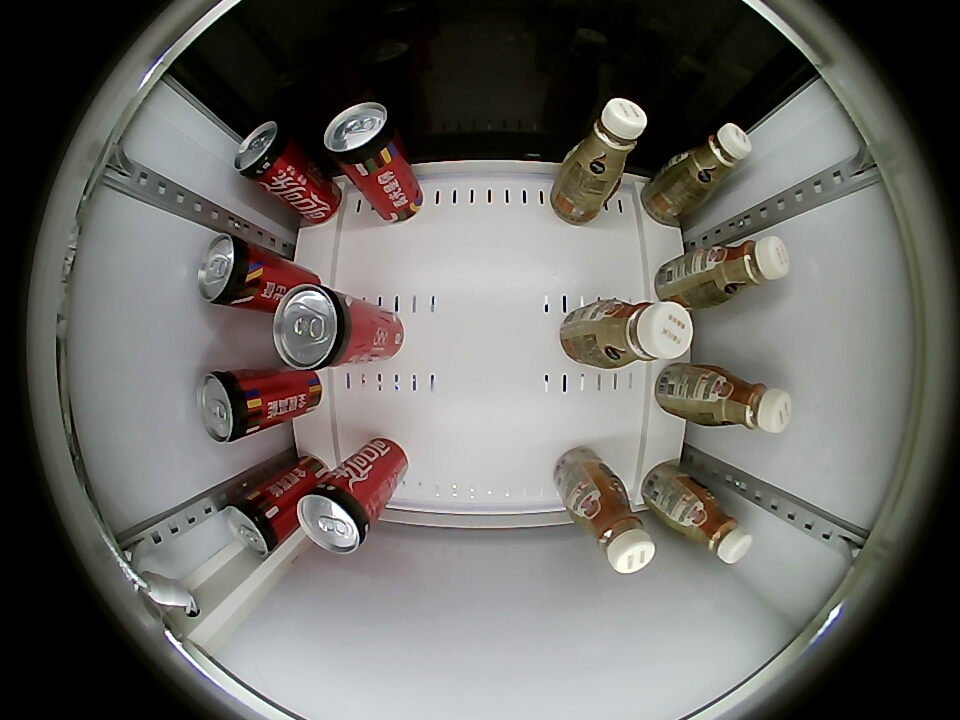kafei: (569, 483, 656, 574), (564, 97, 648, 182), (593, 298, 693, 369), (698, 366, 792, 433), (673, 486, 752, 564), (673, 123, 753, 195), (703, 236, 789, 301)
lingdukele: (271, 282, 359, 371), (296, 480, 377, 554), (324, 101, 401, 168), (197, 368, 262, 444), (197, 234, 262, 307), (233, 121, 300, 189), (225, 488, 290, 557)
